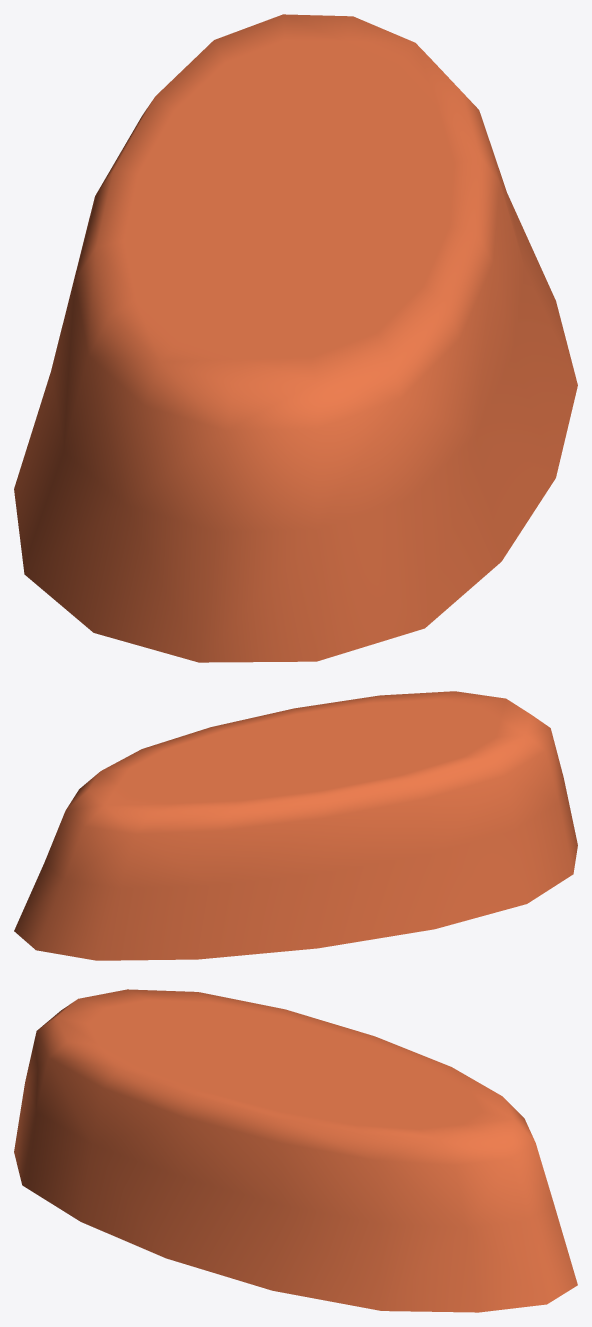
Rendered from CircularStone.fbx.
3 views of the same model, one above another, from view 1: azimuth 30°, elevation 25°; view 2: azimuth 150°, elevation 25°; view 3: azimuth 270°, elevation 25° (orthographic). The views are drawn at different scales.
Parts seen in each view (by area): view 1: Smallsupport.001; view 2: Smallsupport.001; view 3: Smallsupport.001.
Part boxes in pixels (bbox=[...]): Smallsupport.001: bbox=[14, 14, 577, 662]; Smallsupport.001: bbox=[14, 691, 577, 960]; Smallsupport.001: bbox=[14, 989, 577, 1312].
Size of the model in its own units: 3.76 by 1.07 by 3.16.
